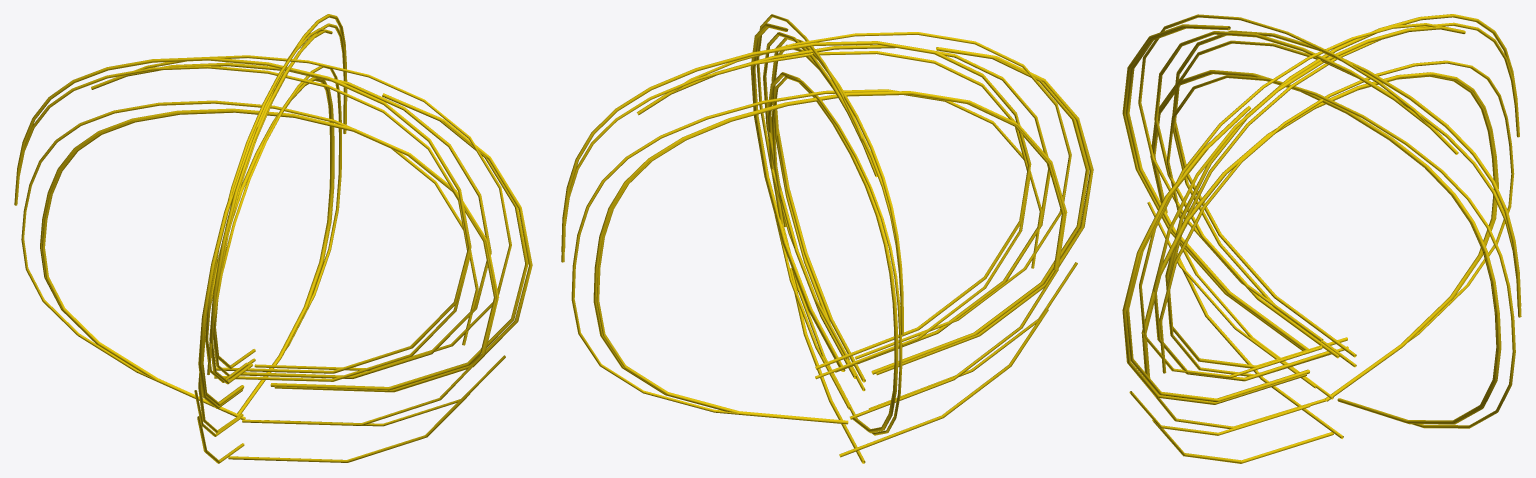
File: maronete String.fbx
3 renders of one model, left to right at view 1: azimuth 30°, elevation 25°; view 2: azimuth 150°, elevation 25°; view 3: azimuth 270°, elevation 25°, orthographic. The views are drawn at different scales.
Parts seen in each view (by area): view 1: polySurface2; view 2: polySurface2; view 3: polySurface2.
Boxes of the visible parts, x1,y1,x2,y2 form: polySurface2: [14, 14, 532, 463]; polySurface2: [561, 14, 1093, 463]; polySurface2: [1122, 14, 1521, 463].
Size of the model in its own units: 2.16 by 2.46 by 2.12.
